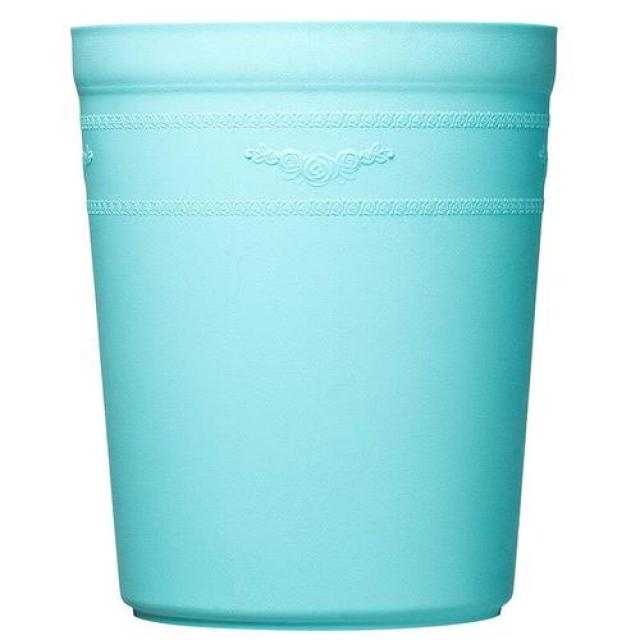dustbin: (63, 17, 564, 633)
